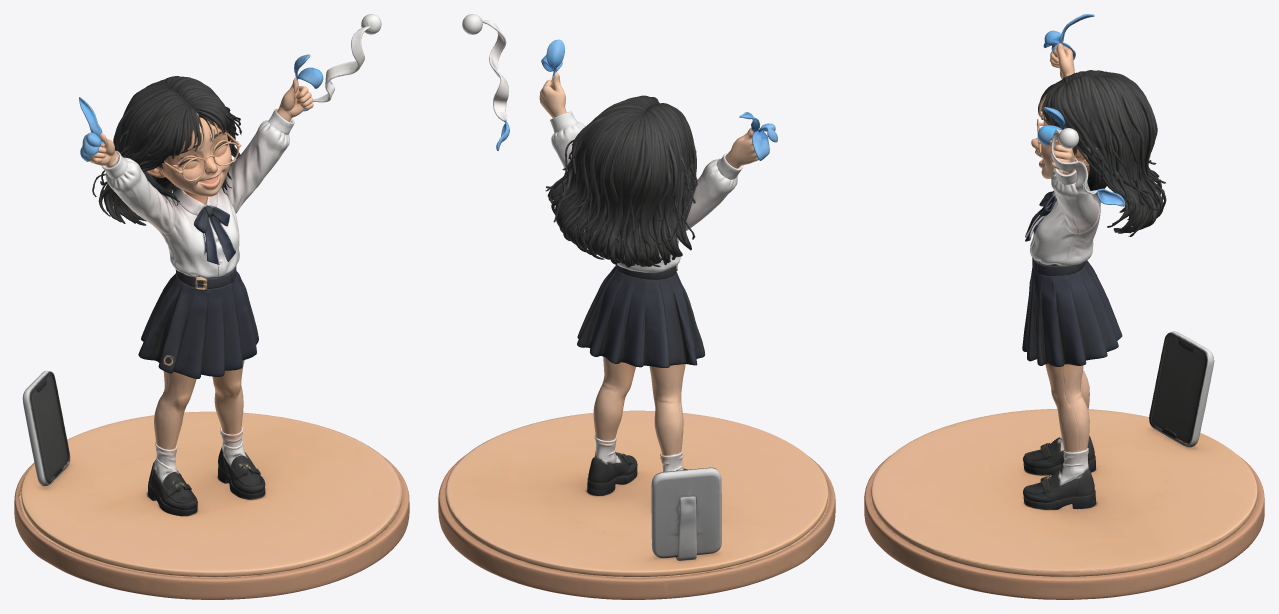
File: qingzhu.glb
3 views of the same model, side by side, from view 1: azimuth 30°, elevation 25°; view 2: azimuth 150°, elevation 25°; view 3: azimuth 270°, elevation 25° (orthographic).
Visible parts, largest first — view 1: tripo_node_616135f4-86b1-4e14-a821-746e363d3187; view 2: tripo_node_616135f4-86b1-4e14-a821-746e363d3187; view 3: tripo_node_616135f4-86b1-4e14-a821-746e363d3187.
Boxes of the visible parts, x1,y1,x2,y2 form: tripo_node_616135f4-86b1-4e14-a821-746e363d3187: (14, 14, 409, 599); tripo_node_616135f4-86b1-4e14-a821-746e363d3187: (438, 14, 835, 599); tripo_node_616135f4-86b1-4e14-a821-746e363d3187: (864, 14, 1264, 599).
Size of the model in its own units: 0.7536 by 0.968 by 0.7525.
1 material, 1 textured.
